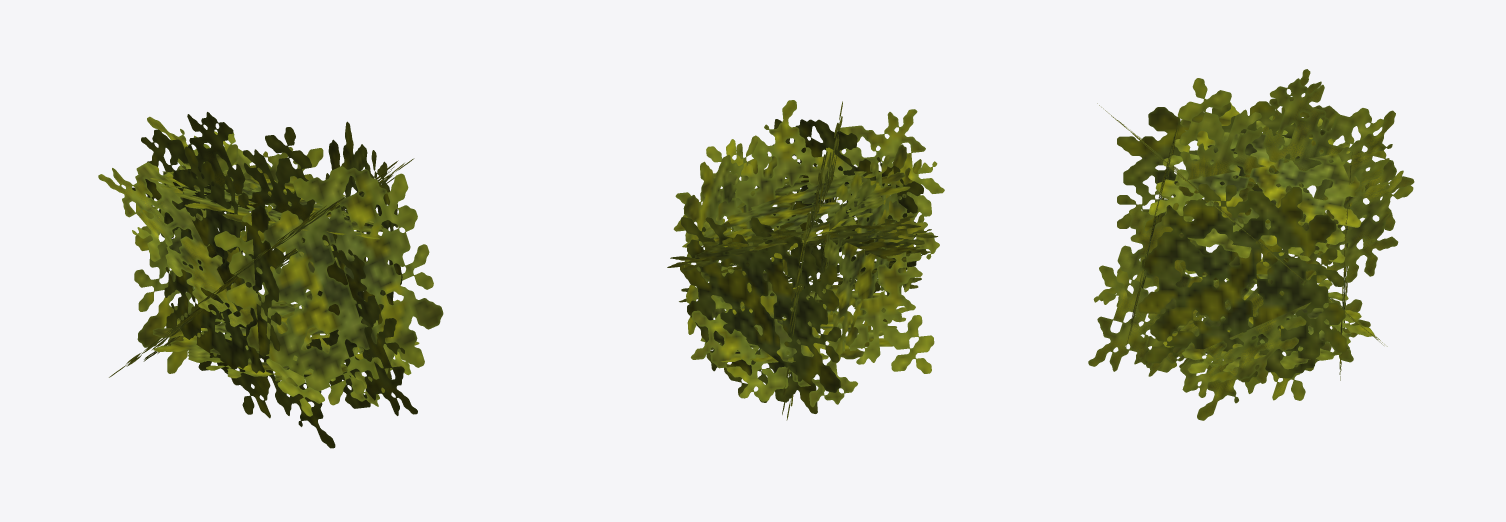
Rendered from ash_leaves_yellowish_5.obj.
The picture shows the model from 3 angles, left to right: view 1: azimuth 30°, elevation 25°; view 2: azimuth 150°, elevation 25°; view 3: azimuth 270°, elevation 25°; orthographic projection. The views are drawn at different scales.
Parts seen in each view (by area): view 1: bottom, east, south, north, top, west; view 2: west, top, south, north, bottom, east; view 3: south, east, west, north, bottom.
Part boxes in pixels (x1=…): bottom: x1=214, y1=166, x2=443, y2=405; east: x1=132, y1=112, x2=419, y2=448; south: x1=98, y1=116, x2=411, y2=416; north: x1=160, y1=146, x2=284, y2=374; top: x1=134, y1=144, x2=323, y2=373; west: x1=109, y1=158, x2=414, y2=377; west: x1=673, y1=100, x2=944, y2=407; top: x1=680, y1=217, x2=841, y2=413; south: x1=667, y1=135, x2=937, y2=343; north: x1=823, y1=144, x2=924, y2=362; bottom: x1=771, y1=119, x2=923, y2=292; east: x1=700, y1=101, x2=908, y2=420; south: x1=1098, y1=69, x2=1413, y2=397; east: x1=1088, y1=78, x2=1414, y2=420; west: x1=1097, y1=102, x2=1387, y2=346; north: x1=1117, y1=101, x2=1326, y2=280; bottom: x1=1126, y1=119, x2=1181, y2=348.
Size of the model in its own units: 2.08 by 2.11 by 1.98.
